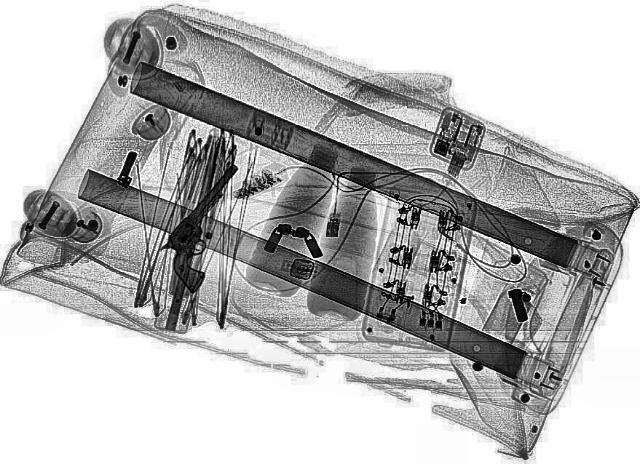Gun: (135, 165, 287, 293)
